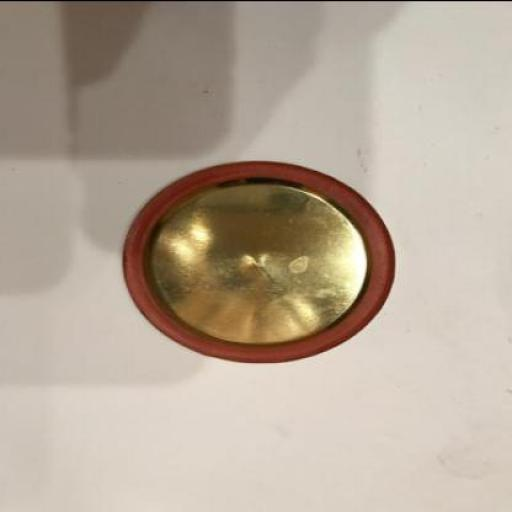metal: (121, 159, 397, 364)
